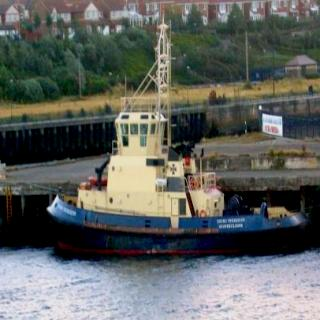Tug Boat: (46, 99, 320, 253)
